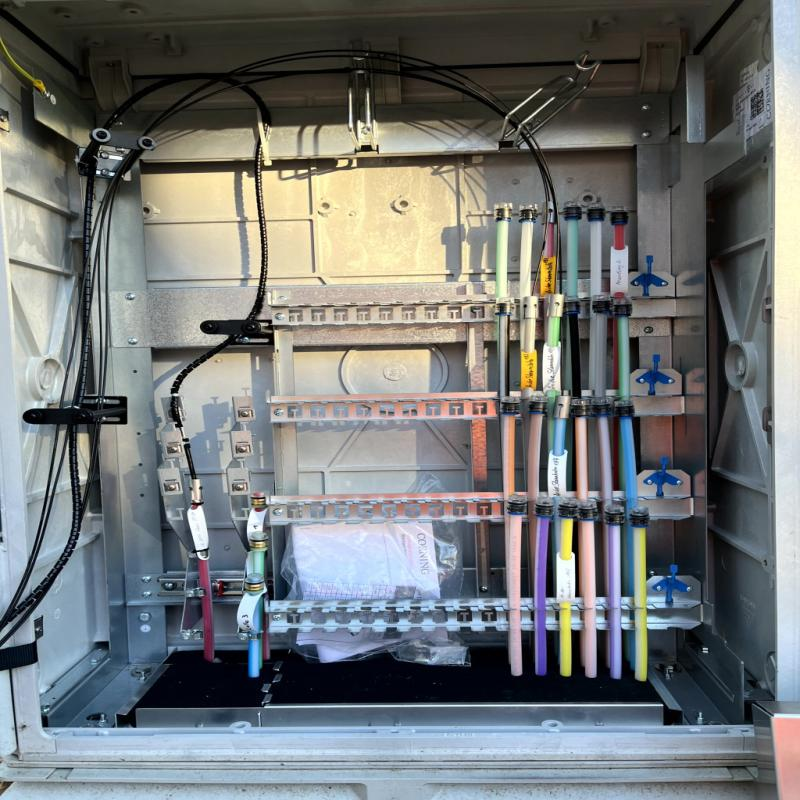NT-Gehause: (11, 14, 766, 761)
